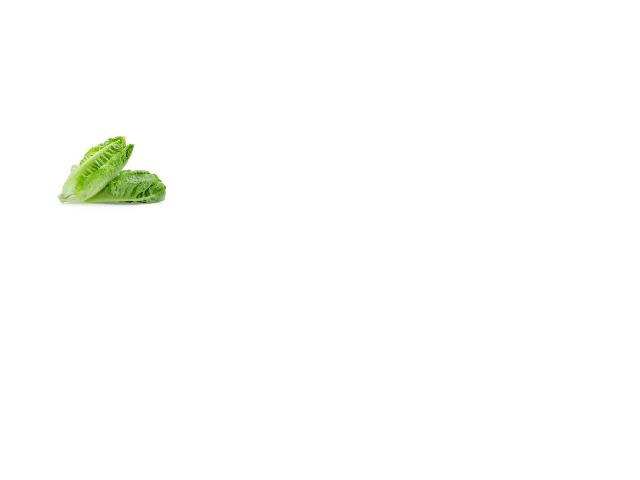lettuce: (81, 167, 172, 210)
